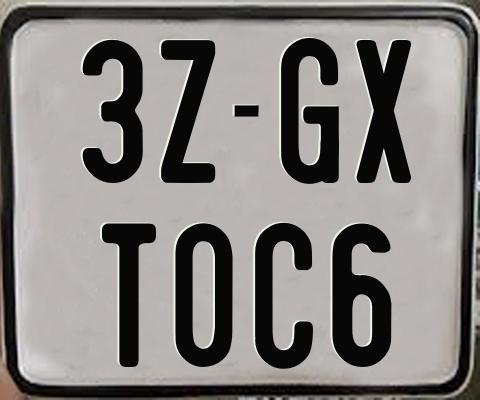0: (175, 220, 236, 364)
3: (80, 38, 143, 184)
6: (331, 221, 394, 371)
C: (252, 222, 310, 372)
G: (280, 37, 342, 188)
T: (101, 220, 156, 364)
X: (357, 39, 412, 183)
Z: (160, 40, 220, 187)
